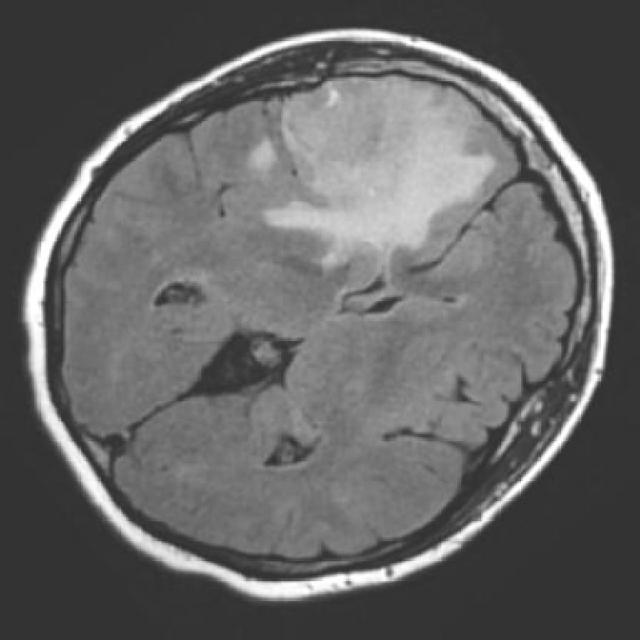Brain-Tumor: (246, 54, 510, 284)
